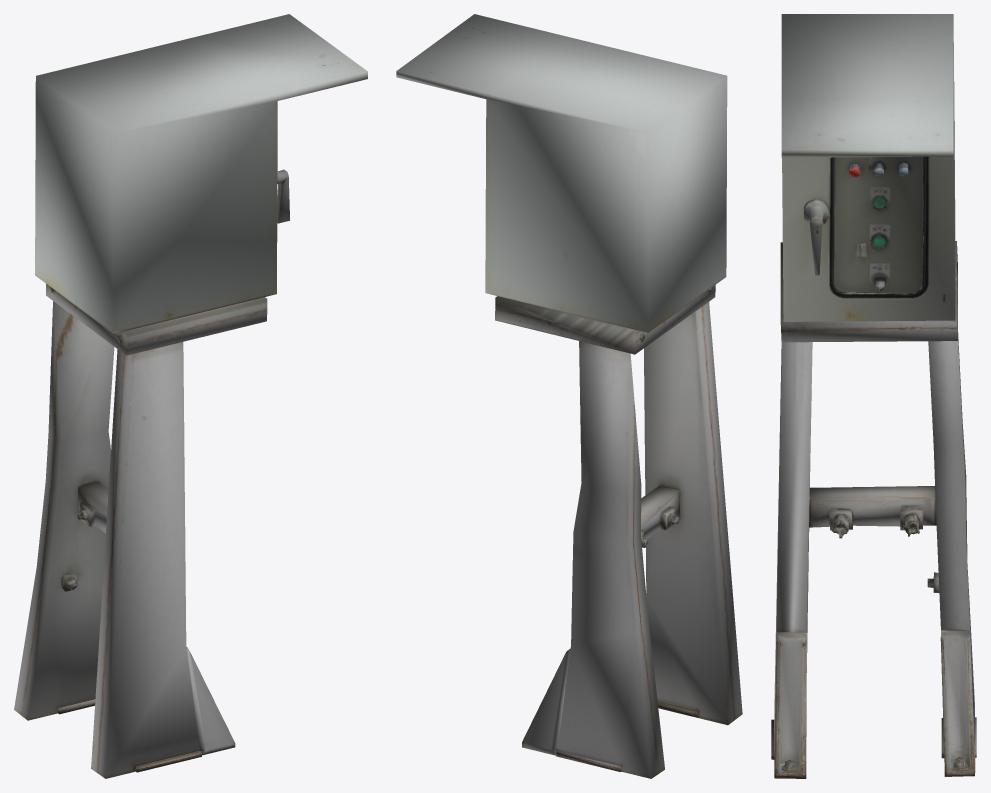
Rendered from LightPanel 1.fbx.
The picture shows the model from 3 angles, left to right: view 1: azimuth 30°, elevation 25°; view 2: azimuth 150°, elevation 25°; view 3: azimuth 270°, elevation 25°; orthographic projection. The views are drawn at different scales.
Visible parts, largest first — view 1: tripo_node_7dbf033b; view 2: tripo_node_7dbf033b; view 3: tripo_node_7dbf033b.
Part boxes in pixels (box(x1,y1,x2,y2)): tripo_node_7dbf033b: box(14, 14, 367, 778); tripo_node_7dbf033b: box(396, 14, 742, 778); tripo_node_7dbf033b: box(771, 14, 976, 778).
Bounding box in the file's own units: 0.4339 × 1 × 0.2653.
